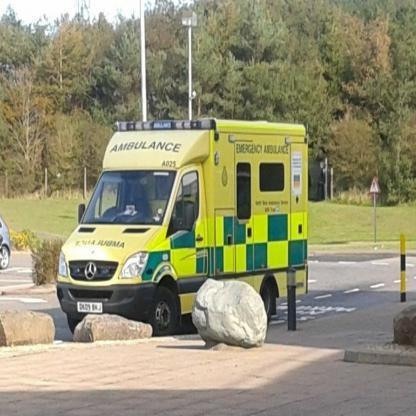Ambulance - v1 Ambulance last generate: (54, 115, 310, 337)
